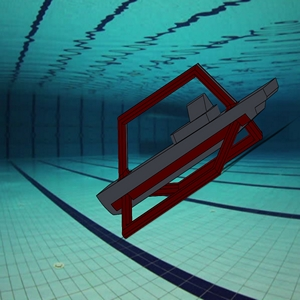submarine: (91, 56, 286, 245)
